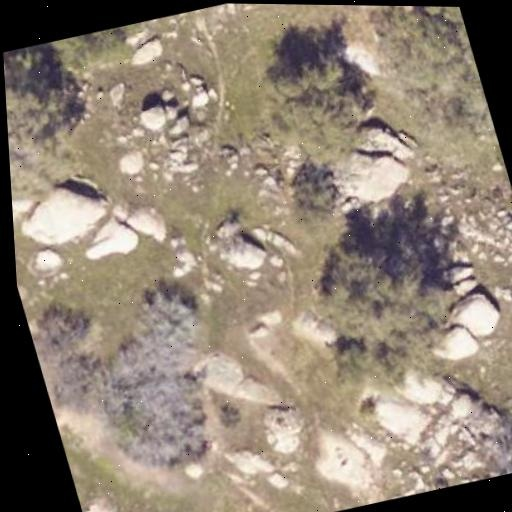tree-top: (23, 273, 245, 492), (283, 195, 502, 406), (241, 41, 388, 176), (2, 39, 105, 211), (368, 5, 493, 134), (52, 17, 172, 81)
